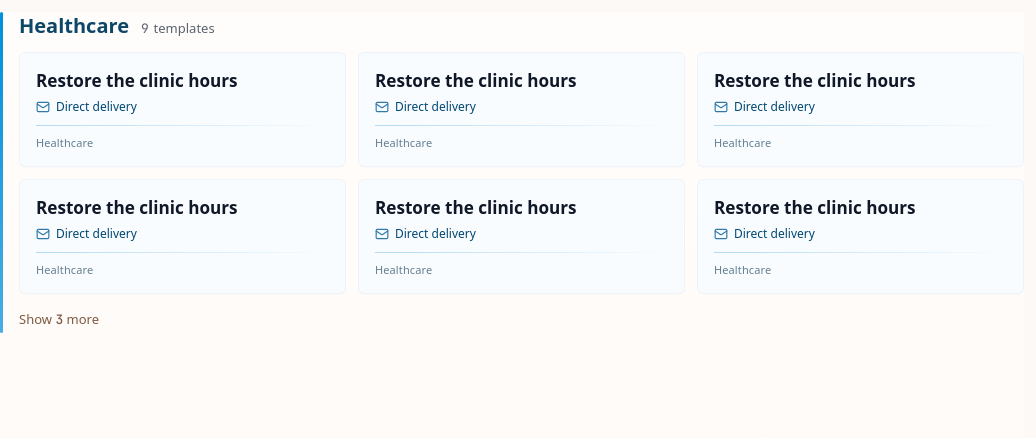
Test: DomainBand › shows the lead tiles and reveals the rest via "more"
Click the button with class "band-more" at (59,319), box [19,306,99,333]
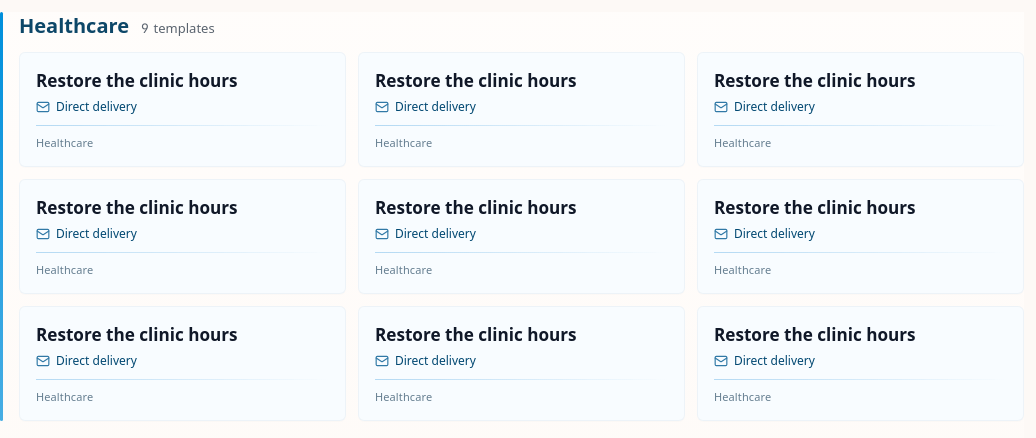
Result: the button with class "band-more" is gone
